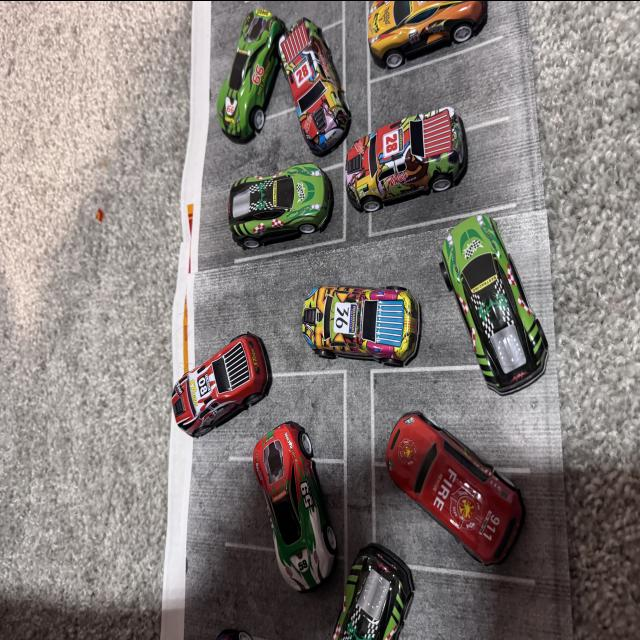Car: (360, 383, 566, 548), (350, 14, 516, 214), (164, 298, 286, 458), (441, 216, 564, 372), (276, 508, 404, 640), (240, 424, 336, 588), (286, 266, 436, 370), (215, 164, 316, 276), (208, 0, 276, 154), (286, 17, 348, 163), (377, 0, 484, 84)
